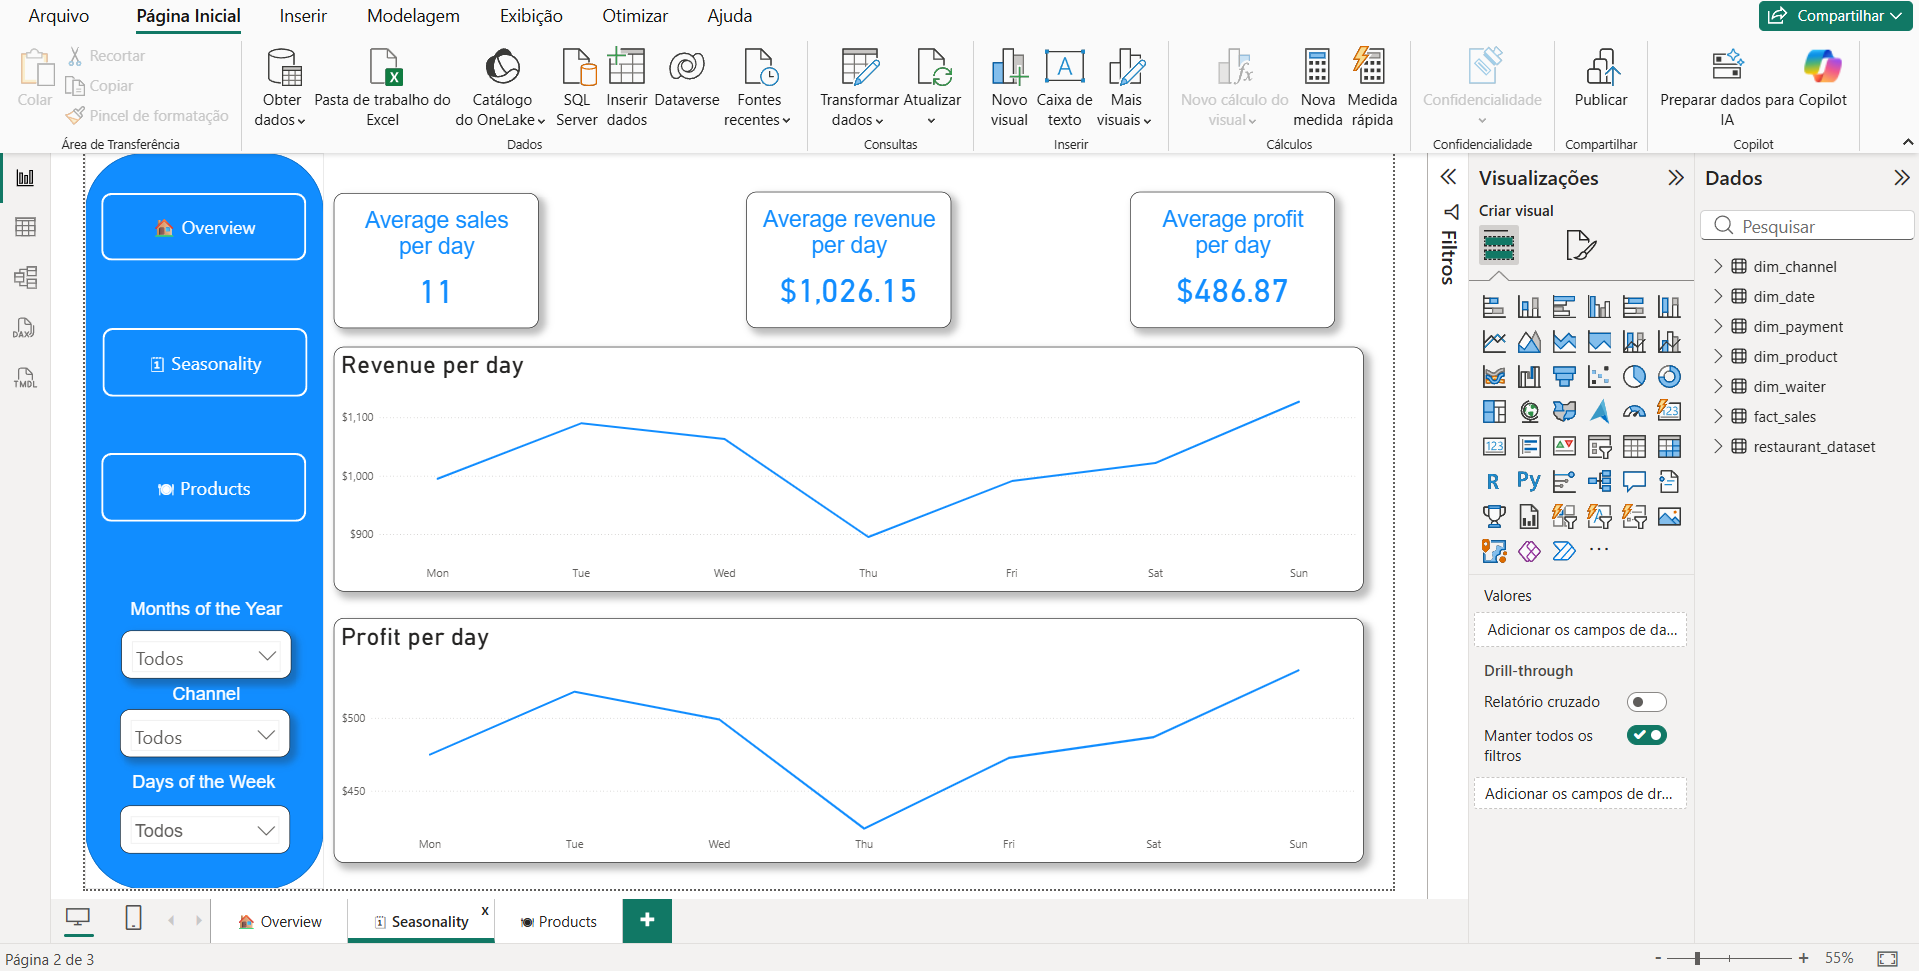

What the dashboard file says about the page in this screenshot:
{"tool":"powerbi","page":{"name":"🗓 Seasonality","canvas":[1920,1080],"ordinal":1},"visuals":[{"type":"lineChart","title":"Revenue per day","fields":{"Category":["dim_date.weekday_name"],"Y":["fact_sales.average_revenue_day"]},"box":[365,284.3,1511.4,359.5],"z":0},{"type":"shape","box":[0,0,350.3,1080.4],"z":1000},{"type":"actionButton","title":"🏠 Overview","box":[23.8,58.7,300.8,99],"z":2000},{"type":"actionButton","title":"🏠 Overview","box":[25.7,256.8,300.8,100.9],"z":3000},{"type":"actionButton","title":"🏠 Overview","box":[23.8,440.2,300.8,100.9],"z":4000},{"type":"card","title":"Average sales per day","fields":{"Values":["fact_sales.average_sales_per_weekday"]},"box":[365,58.7,300.8,198.1],"z":6000},{"type":"card","title":"Average revenue per day","fields":{"Values":["fact_sales.average_revenue_day"]},"box":[970.3,56.9,300.8,199.9],"z":7000},{"type":"card","title":"Average profit per day","fields":{"Values":["fact_sales.average_profit_per_day"]},"box":[1533.4,56.9,300.8,199.9],"z":8000},{"type":"lineChart","title":"Profit per day","fields":{"Category":["dim_date.weekday_name"],"Y":["fact_sales.average_profit_per_day"]},"box":[365,682.3,1511.4,359.5],"z":9000},{"type":"slicer","fields":{"Values":["dim_date.month_name"]},"box":[52.5,700.3,249.7,70.6],"z":10000},{"type":"slicer","fields":{"Values":["dim_channel.channel"]},"box":[50.7,816.2,249.7,70.6],"z":11000},{"type":"textbox","box":[47.1,649.7,260.6,50.7],"z":12000},{"type":"textbox","box":[52.5,774.5,249.7,45.2],"z":13000},{"type":"textbox","box":[52.5,903,242.5,43.4],"z":14000},{"type":"slicer","fields":{"Values":["dim_date.weekday_name"]},"box":[50.7,957.3,249.7,70.6],"z":15000}]}

Visuals, with their boxes on the page's 1920x1080 design canvas (x1, y1, x2, y2). These are canvas units, not pixel positions in the 1919x971 screenshot, which may show the page scaled, cropped or inside an application window:
"Revenue per day" lineChart: detection(365, 284, 1876, 644)
shape: detection(0, 0, 350, 1080)
"🏠 Overview" actionButton: detection(24, 59, 325, 158)
"🏠 Overview" actionButton: detection(26, 257, 326, 358)
"🏠 Overview" actionButton: detection(24, 440, 325, 541)
"Average sales per day" card: detection(365, 59, 666, 257)
"Average revenue per day" card: detection(970, 57, 1271, 257)
"Average profit per day" card: detection(1533, 57, 1834, 257)
"Profit per day" lineChart: detection(365, 682, 1876, 1042)
slicer - dim_date.month_name: detection(52, 700, 302, 771)
slicer - dim_channel.channel: detection(51, 816, 300, 887)
textbox: detection(47, 650, 308, 700)
textbox: detection(52, 774, 302, 820)
textbox: detection(52, 903, 295, 946)
slicer - dim_date.weekday_name: detection(51, 957, 300, 1028)
